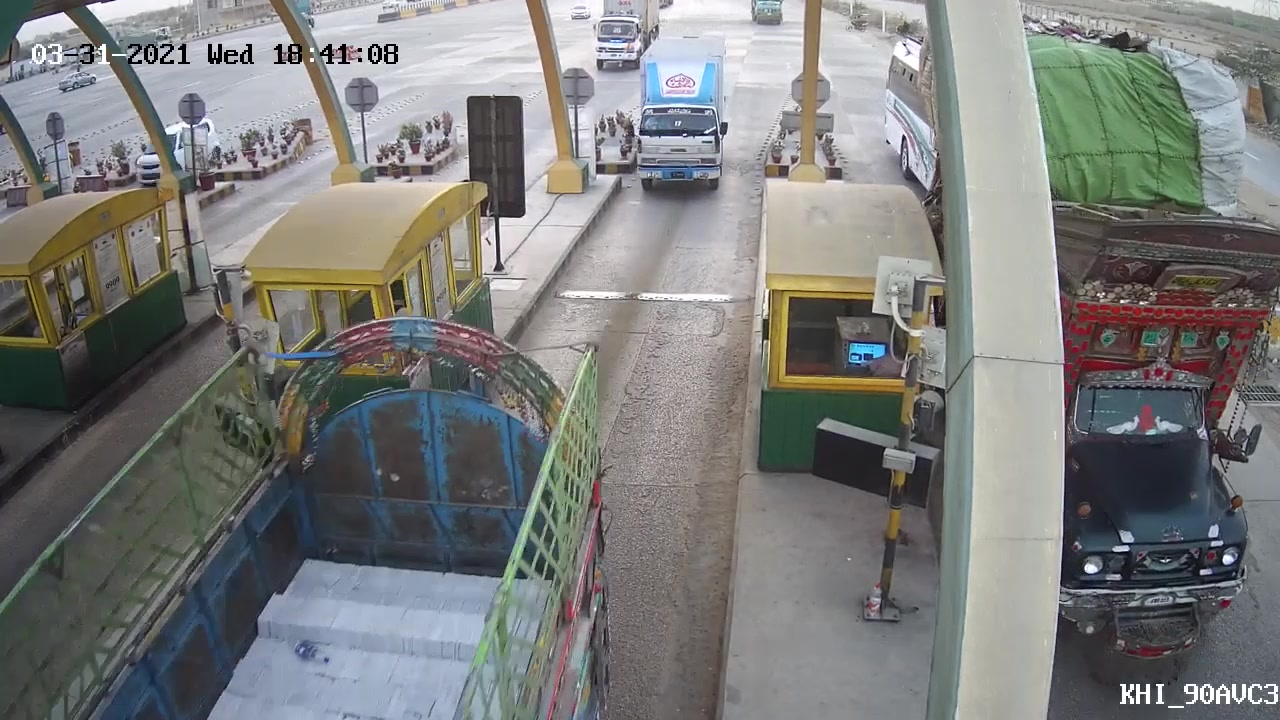F3: (619, 33, 744, 199)
